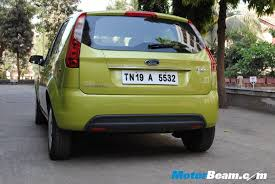T: (123, 72, 130, 81)
